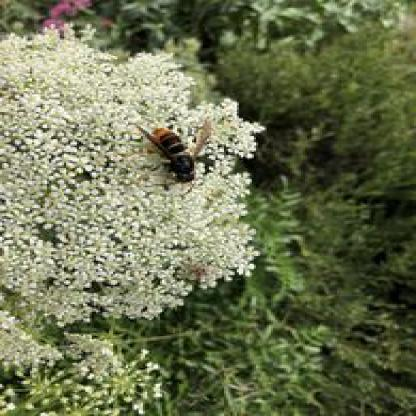Asian Hornet: (136, 117, 212, 187)
